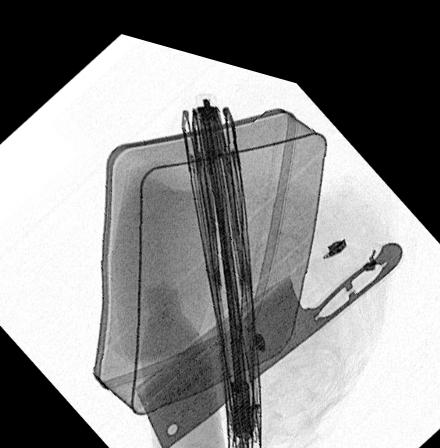Knife: (130, 218, 405, 445)
